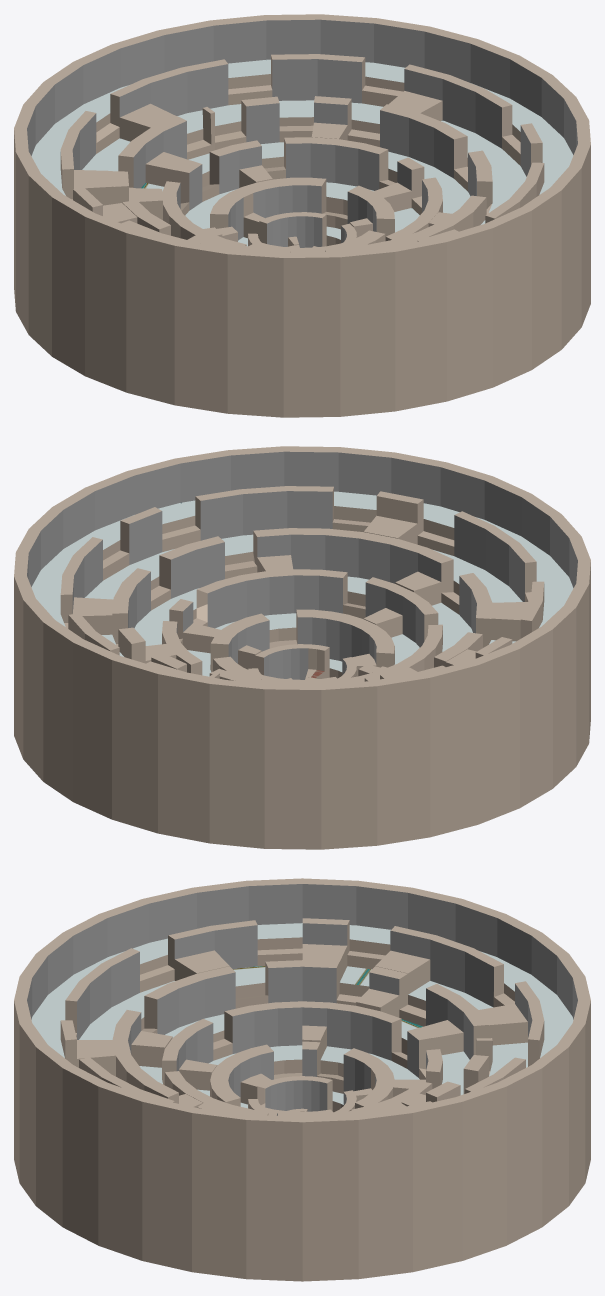
3 renders of one model, top to bottom at view 1: azimuth 30°, elevation 25°; view 2: azimuth 150°, elevation 25°; view 3: azimuth 270°, elevation 25°, orthographic.
Visible parts, largest first — view 1: Cylinder; view 2: Cylinder; view 3: Cylinder.
Boxes of the visible parts, box(x1,y1,x2,y2) form: Cylinder: box(14, 14, 590, 417); Cylinder: box(14, 446, 590, 849); Cylinder: box(14, 878, 590, 1281).
Size of the model in its own units: 102 by 31.16 by 102.
3 materials, 2 textured.
